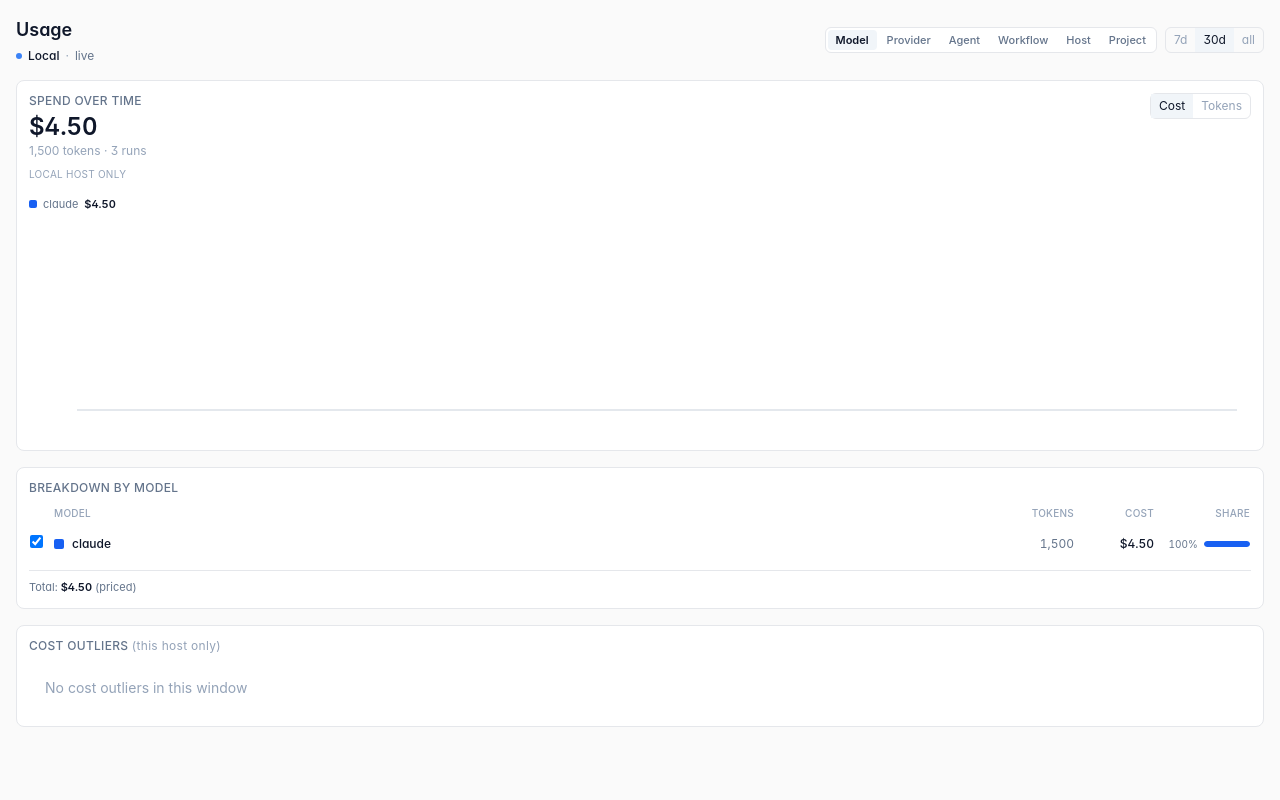
Scenario: Usage page › interactive filtering › builds the breakdown table from the same run rows as the graph, not from data.breakdown
Expected: the text "claude" in the row of "100" is shown, x1=72 y1=536 x2=111 y2=550
Click the checkbox named "claude".
click(36, 542)  # box x1=30 y1=535 x2=43 y2=548
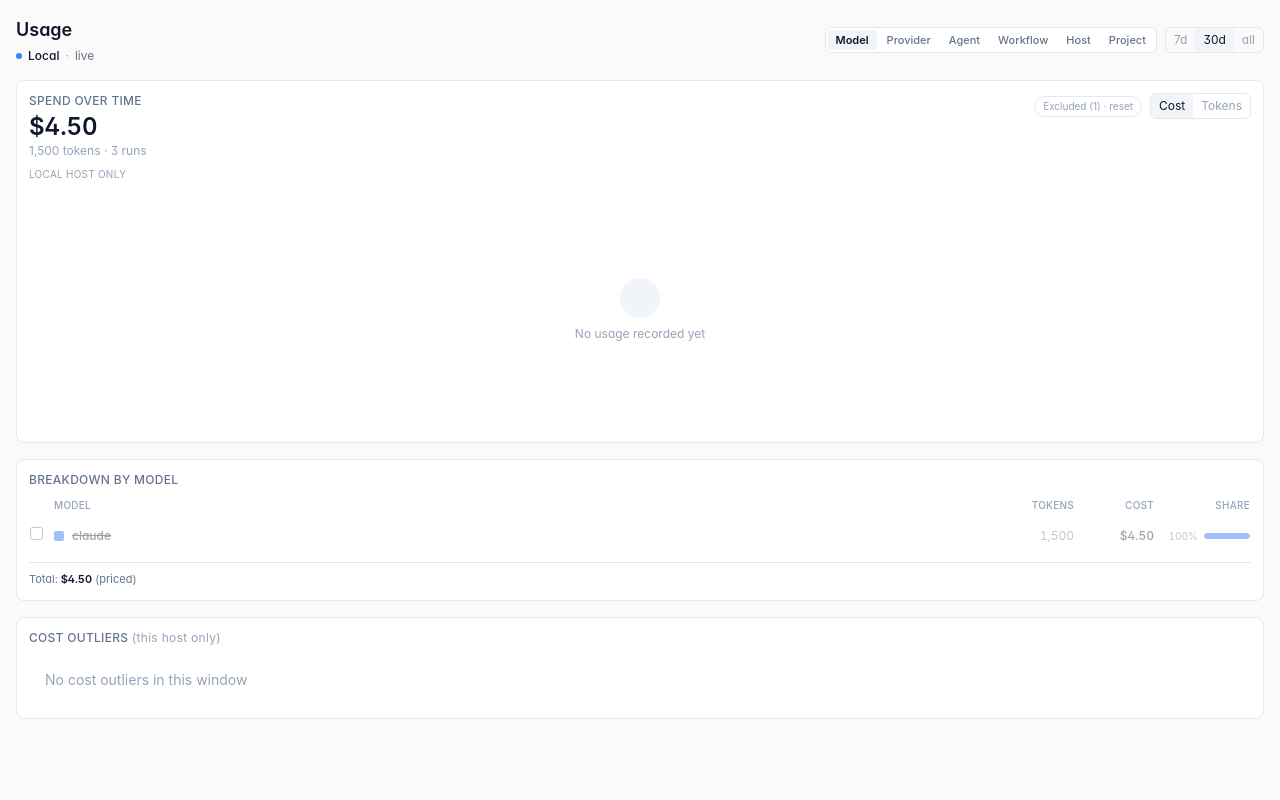
Expected: the button "Excluded (1) · reset" is shown, x1=1034 y1=96 x2=1142 y2=116
Expected: the text "No usage recorded yet" is shown, x1=575 y1=326 x2=705 y2=342
